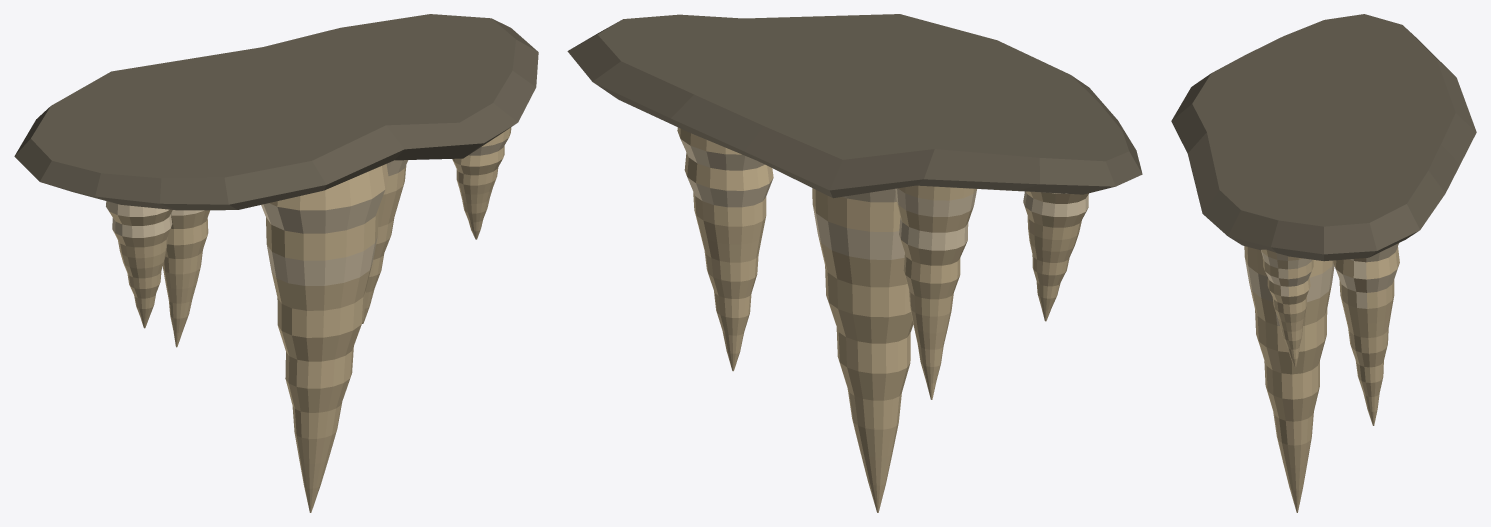
The model's file is stalactite-group.glb.
The picture shows the model from 3 angles, left to right: view 1: azimuth 30°, elevation 25°; view 2: azimuth 150°, elevation 25°; view 3: azimuth 270°, elevation 25°; orthographic projection. The views are drawn at different scales.
Parts seen in each view (by area): view 1: rough-ceiling-attachment, rooted-pendant-02, rooted-pendant-00, rooted-pendant-01, rooted-pendant-04, rooted-pendant-03; view 2: rough-ceiling-attachment, rooted-pendant-02, rooted-pendant-03, rooted-pendant-01, rooted-pendant-00; view 3: rough-ceiling-attachment, rooted-pendant-02, rooted-pendant-03, rooted-pendant-04.
Boxes of the visible parts, bbox=[...] form: rough-ceiling-attachment: bbox=[14, 14, 538, 210]; rooted-pendant-02: bbox=[261, 164, 388, 512]; rooted-pendant-00: bbox=[106, 201, 172, 328]; rooted-pendant-01: bbox=[163, 210, 209, 347]; rooted-pendant-04: bbox=[452, 127, 511, 239]; rooted-pendant-03: bbox=[362, 160, 408, 323]; rough-ceiling-attachment: bbox=[567, 14, 1142, 198]; rooted-pendant-02: bbox=[812, 188, 913, 512]; rooted-pendant-03: bbox=[677, 127, 773, 371]; rooted-pendant-01: bbox=[895, 185, 976, 399]; rooted-pendant-00: bbox=[1023, 191, 1088, 321]; rough-ceiling-attachment: bbox=[1171, 14, 1476, 261]; rooted-pendant-02: bbox=[1244, 246, 1334, 512]; rooted-pendant-03: bbox=[1333, 243, 1399, 425]; rooted-pendant-04: bbox=[1261, 249, 1313, 367].
Bounding box in the file's own units: 2.86 × 2.29 × 1.6.
